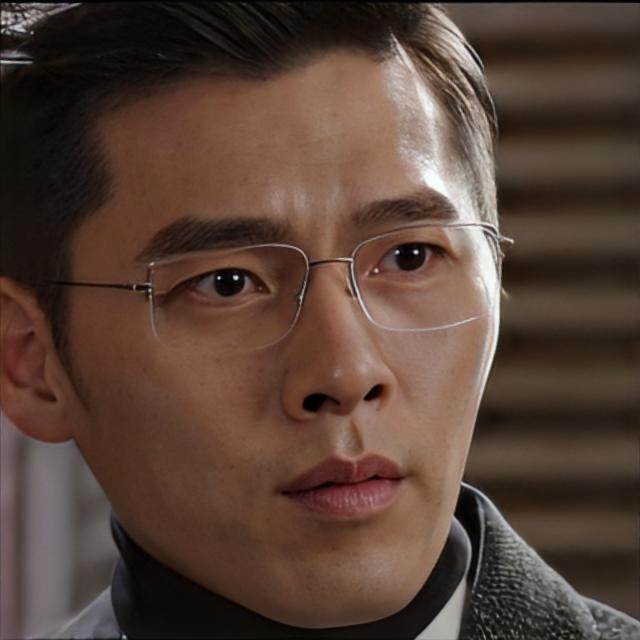sad: (69, 42, 508, 631)
